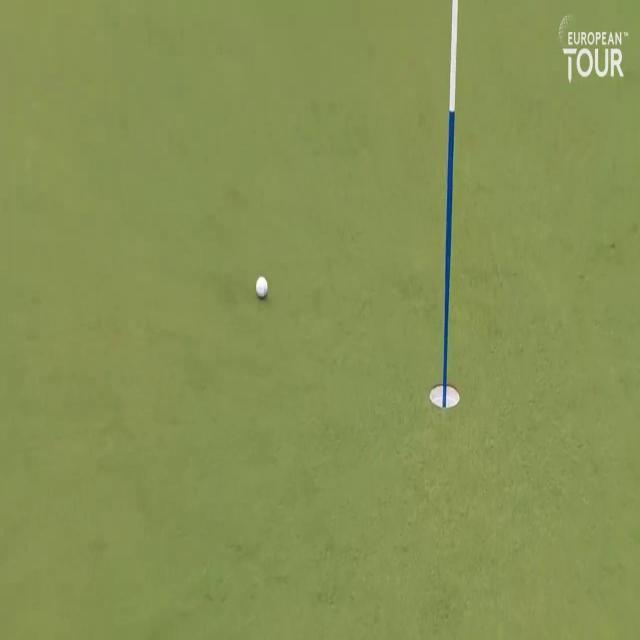GolfBall: (248, 265, 272, 306)
